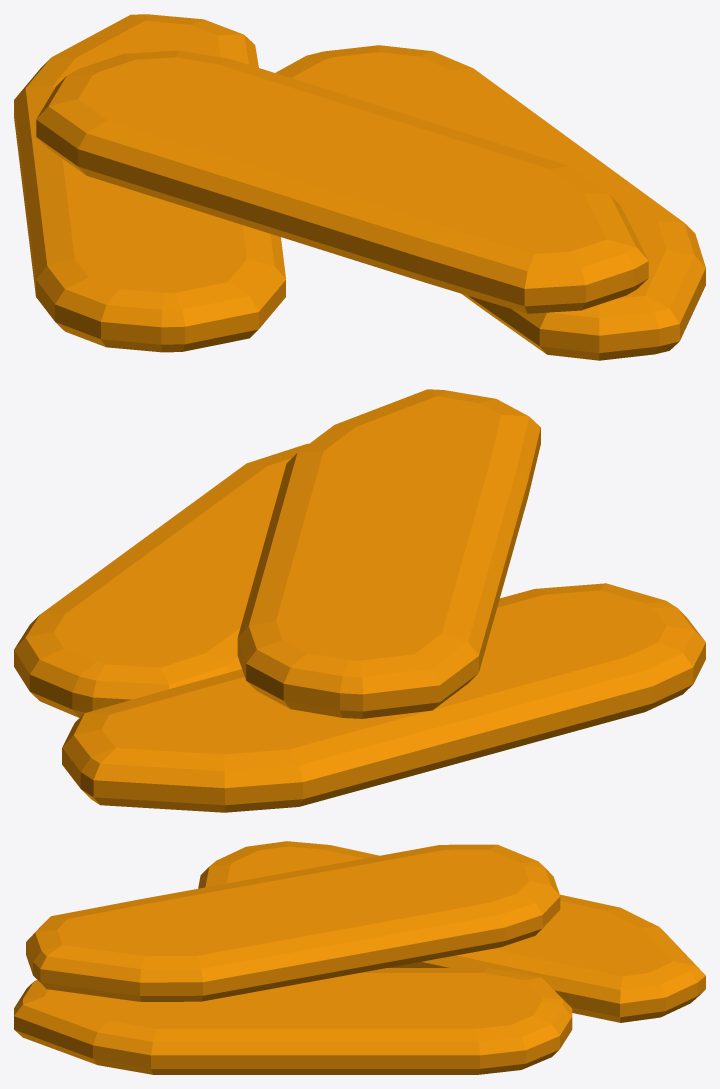
The model's file is ChickenTenders.fbx.
3 renders of one model, top to bottom at view 1: azimuth 30°, elevation 25°; view 2: azimuth 150°, elevation 25°; view 3: azimuth 270°, elevation 25°, orthographic. The views are drawn at different scales.
Visible parts, largest first — view 1: ChickenTenders; view 2: ChickenTenders; view 3: ChickenTenders.
Boxes of the visible parts, box(x1,y1,x2,y2) form: ChickenTenders: box(14, 14, 705, 360); ChickenTenders: box(14, 389, 705, 812); ChickenTenders: box(14, 841, 705, 1074).
Bounding box in the file's own units: 13.17 × 2.43 × 18.47.
